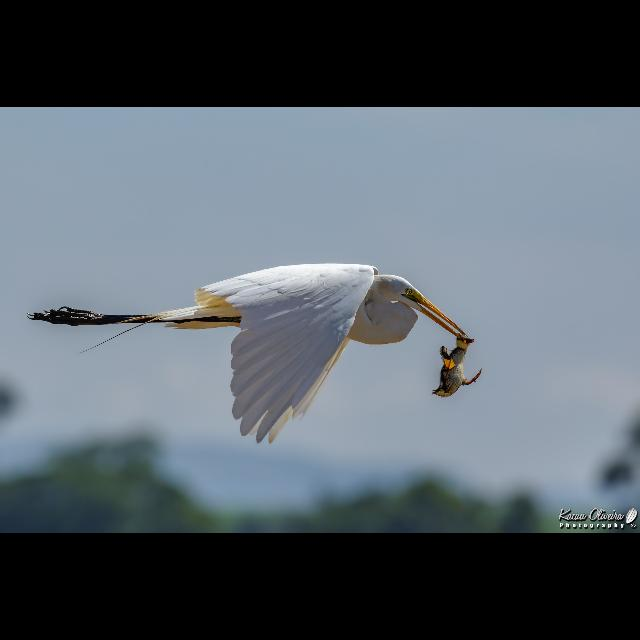egret: (26, 264, 464, 444)
